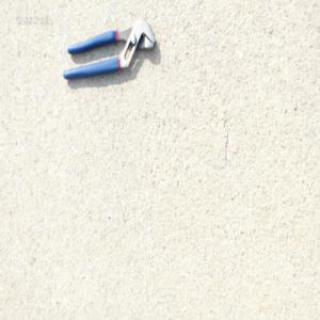Pliertrack_idkeyframe: (61, 16, 155, 81)
